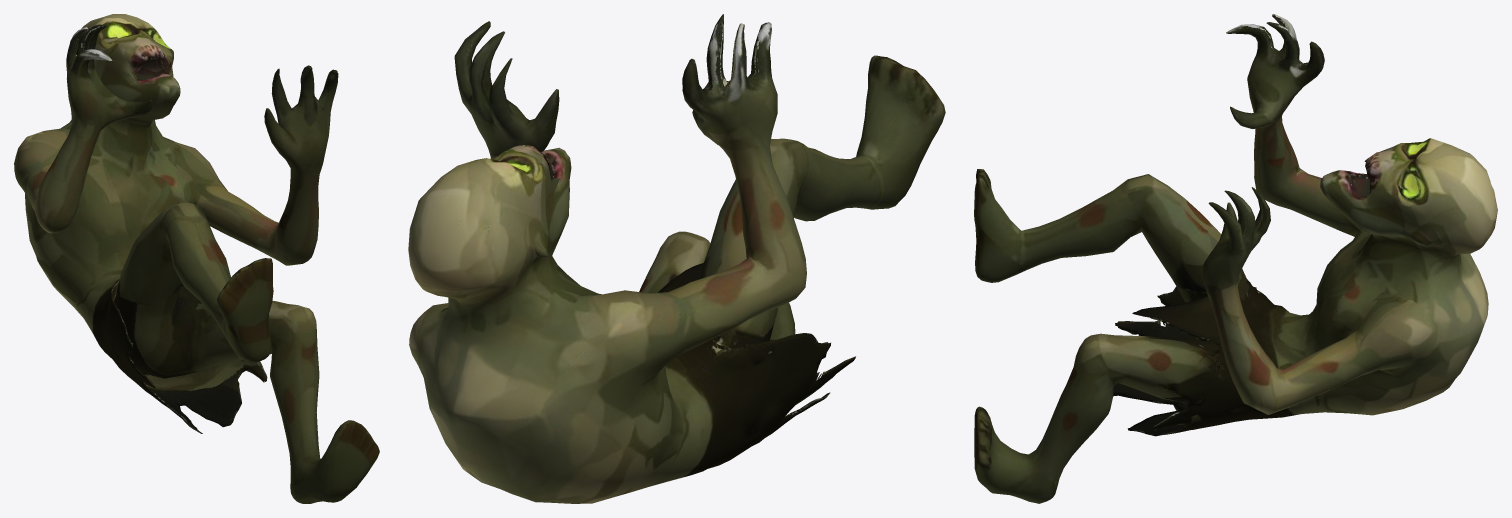
Rendered from Jikininki.glb.
The picture shows the model from 3 angles, left to right: view 1: azimuth 30°, elevation 25°; view 2: azimuth 150°, elevation 25°; view 3: azimuth 270°, elevation 25°; orthographic projection. The views are drawn at different scales.
Parts seen in each view (by area): view 1: Retopo_jikininki.002; view 2: Retopo_jikininki.002; view 3: Retopo_jikininki.002.
Boxes of the visible parts, x1,y1,x2,y2 form: Retopo_jikininki.002: [14, 14, 379, 503]; Retopo_jikininki.002: [408, 14, 945, 503]; Retopo_jikininki.002: [974, 14, 1497, 503].
Size of the model in its own units: 1.24 by 1.79 by 1.95.
Materials: 1 (1 with a texture image).
